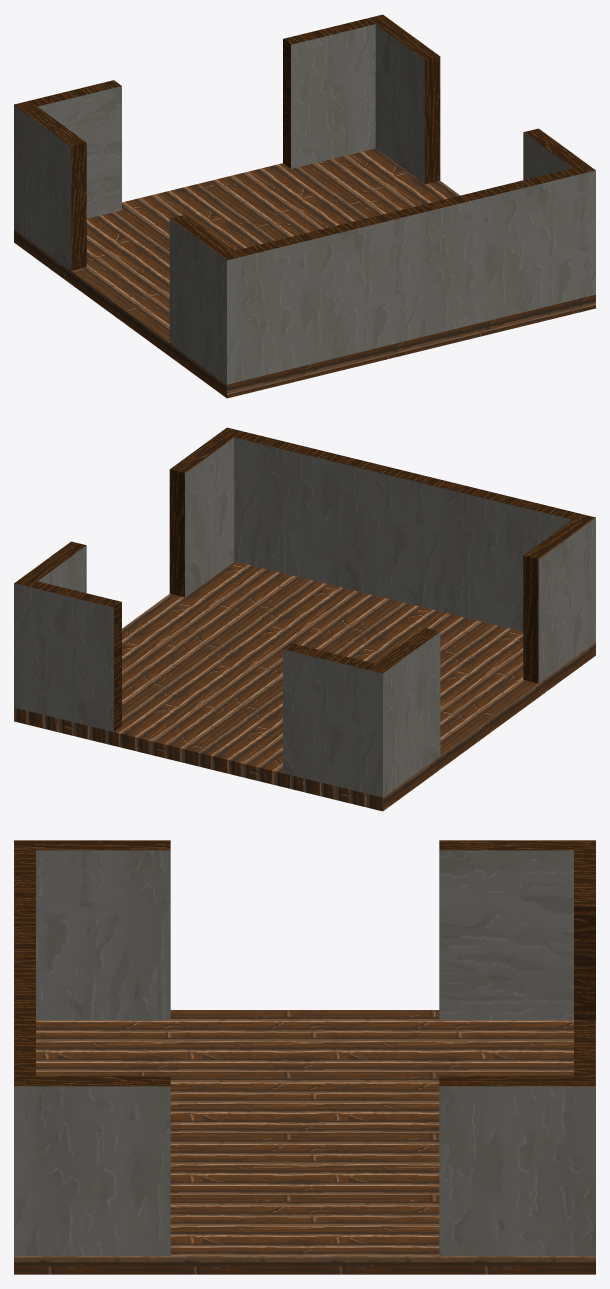
File: room-02.fbx
3 views of the same model, one above another, from view 1: azimuth 30°, elevation 25°; view 2: azimuth 150°, elevation 25°; view 3: azimuth 270°, elevation 25° (orthographic). The views are drawn at different scales.
Visible parts, largest first — view 1: 02; view 2: 02; view 3: 02.
Boxes of the visible parts, x1,y1,x2,y2 form: 02: (14,14,595,398); 02: (14,427,595,811); 02: (14,840,595,1274).
Size of the model in its own units: 600 by 215 by 600.
1 material, 1 textured.
